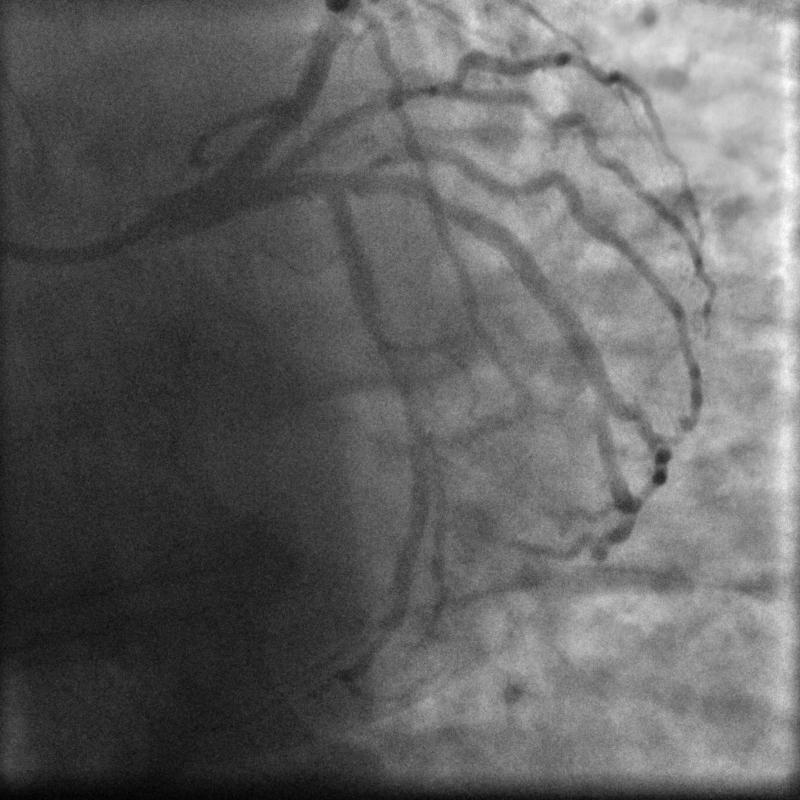Stenosis: (374, 332, 423, 430)
